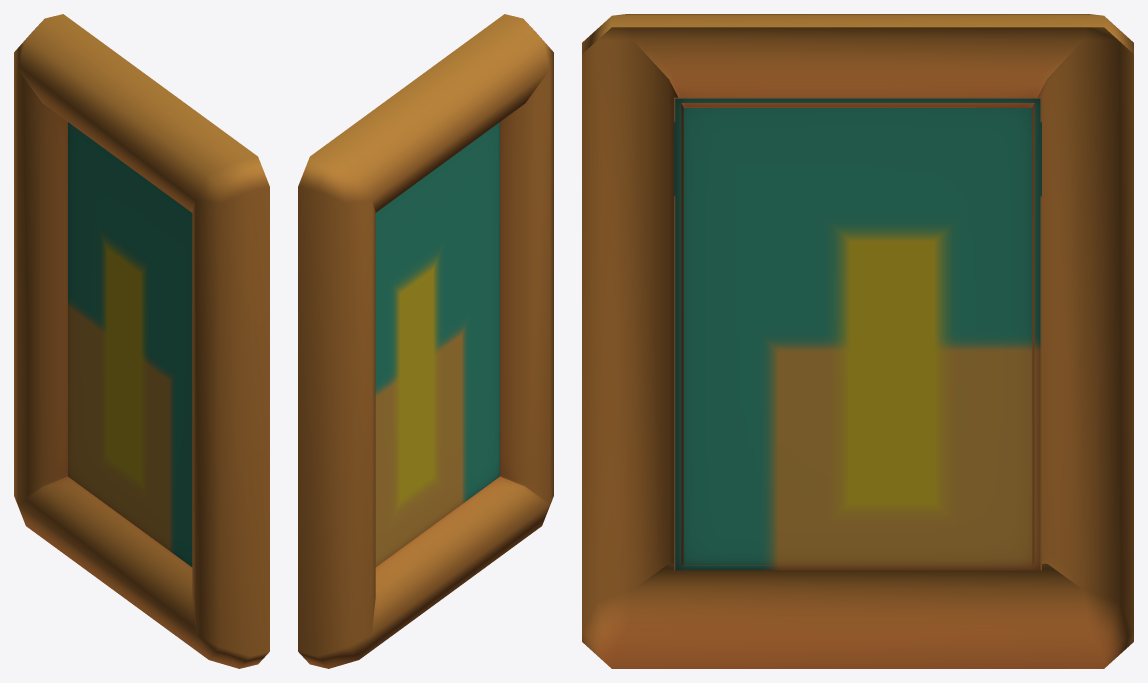
The model's file is frame_02.fbx.
The picture shows the model from 3 angles, left to right: view 1: azimuth 30°, elevation 25°; view 2: azimuth 150°, elevation 25°; view 3: azimuth 270°, elevation 25°; orthographic projection. The views are drawn at different scales.
Parts seen in each view (by area): view 1: frame_02; view 2: frame_02; view 3: frame_02.
Boxes of the visible parts, <box> form: frame_02: <box>14,14,269,668</box>; frame_02: <box>298,14,553,668</box>; frame_02: <box>582,14,1133,668</box>.
Bounding box in the file's own units: 6.85 × 62.05 × 48.36.
